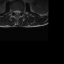CCS_normal: (16, 8, 18, 16)
LFS_normal: (20, 9, 22, 14)
LLS_normal: (18, 8, 20, 15)
RFS_normal: (12, 9, 14, 14)
RLS_normal: (14, 9, 16, 14)
